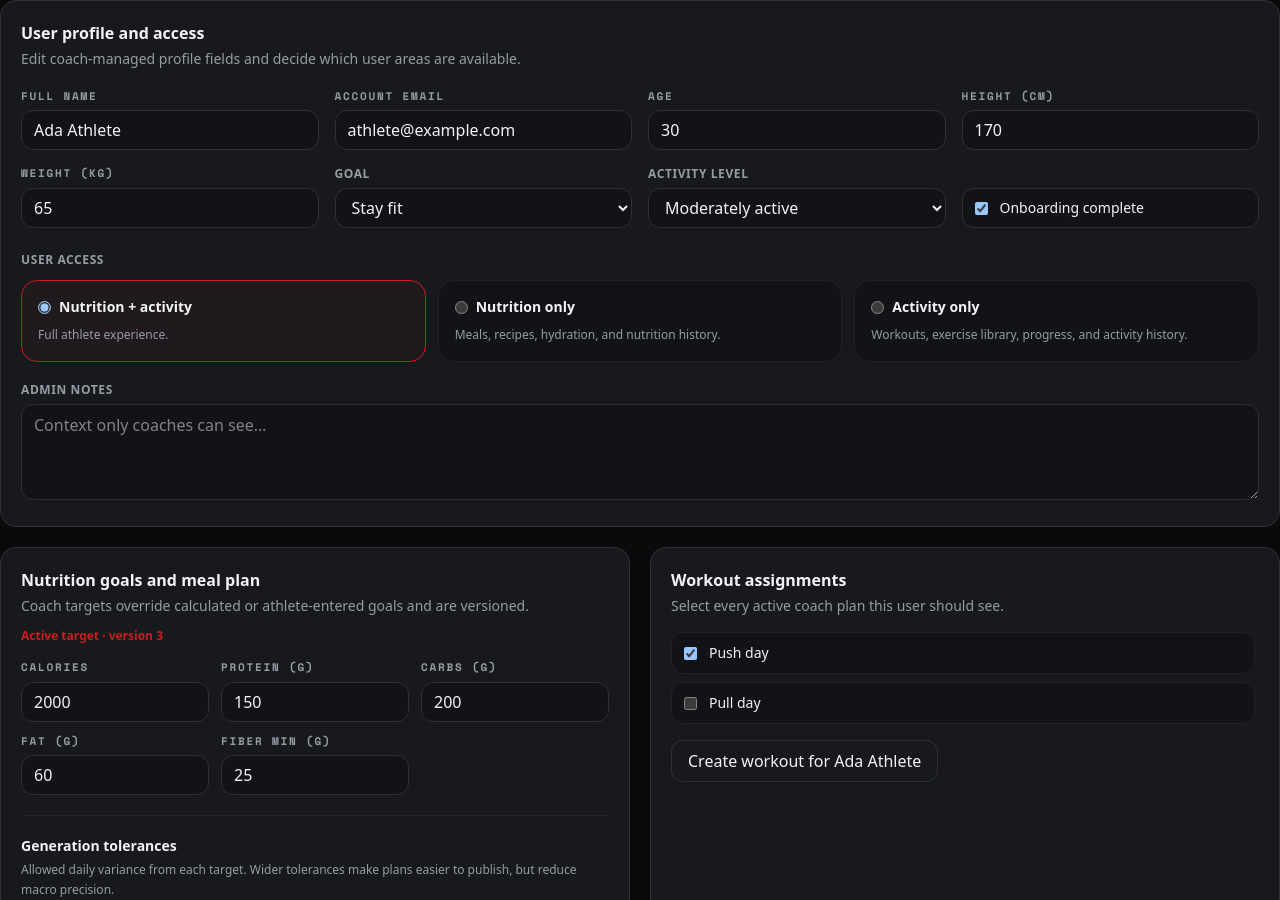
Test: AthleteManagementPanel › moves the dirty baseline when the query reseeds with the edited value (post-save refetch)
This screenshot has width=1280, height=900.
Step 1. Replace the text in the number field labelled "Calories" with "2500" → coordinates (115, 702), box [21, 682, 209, 722]
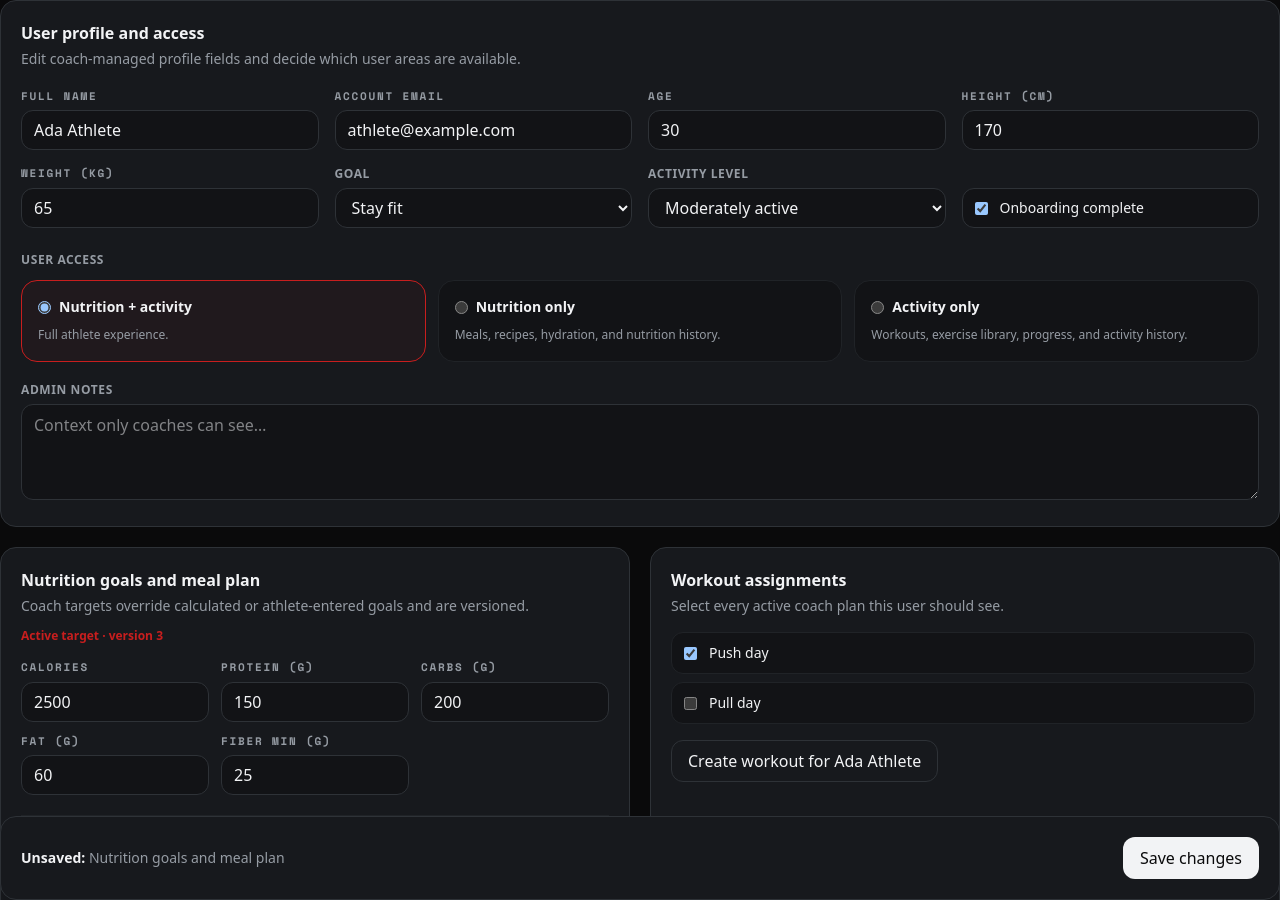
Expected: the text "Unsaved:" shows "Nutrition goals and meal plan", [89, 848, 284, 867]
